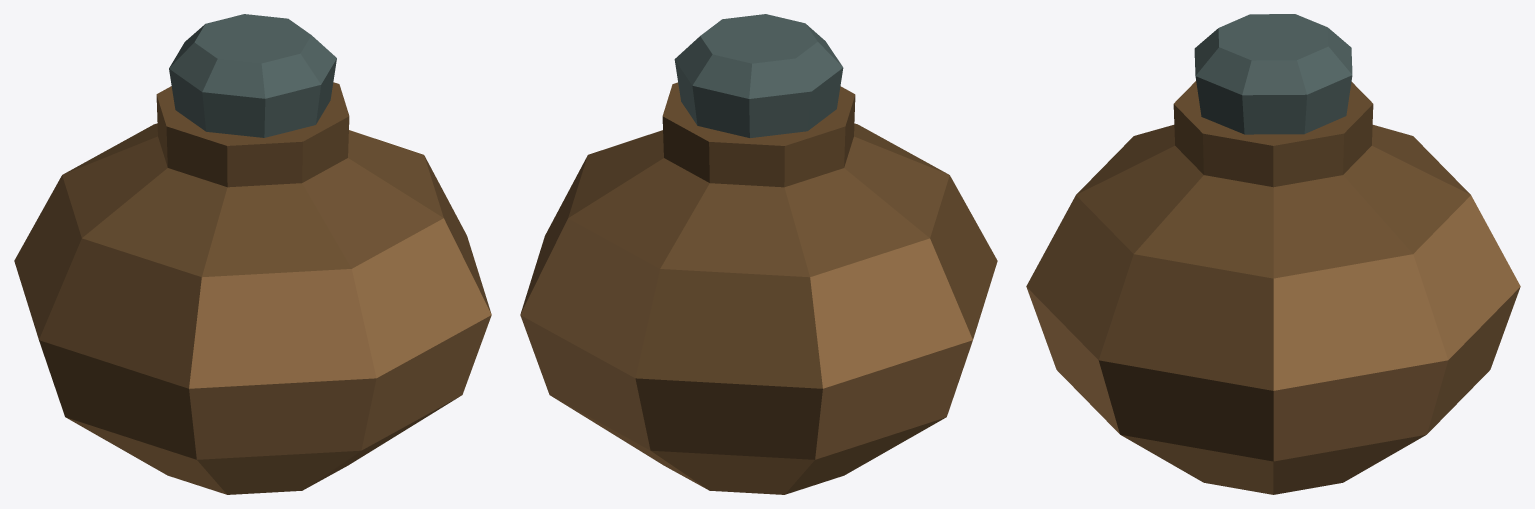
File: Bottle_4_Brown.fbx
3 views of the same model, side by side, from view 1: azimuth 30°, elevation 25°; view 2: azimuth 150°, elevation 25°; view 3: azimuth 270°, elevation 25° (orthographic).
Visible parts, largest first — view 1: Bottle_4_Brown_Part_1, Bottle_4_Brown_Part_2, Bottle_4_Brown_Part_3; view 2: Bottle_4_Brown_Part_1, Bottle_4_Brown_Part_2, Bottle_4_Brown_Part_3; view 3: Bottle_4_Brown_Part_1, Bottle_4_Brown_Part_2, Bottle_4_Brown_Part_3.
Boxes of the visible parts, bbox=[...] form: Bottle_4_Brown_Part_1: bbox=[39, 82, 491, 494]; Bottle_4_Brown_Part_2: bbox=[14, 175, 491, 459]; Bottle_4_Brown_Part_3: bbox=[169, 14, 336, 137]; Bottle_4_Brown_Part_1: bbox=[553, 82, 997, 494]; Bottle_4_Brown_Part_2: bbox=[520, 156, 972, 459]; Bottle_4_Brown_Part_3: bbox=[674, 14, 843, 137]; Bottle_4_Brown_Part_1: bbox=[1076, 81, 1470, 494]; Bottle_4_Brown_Part_2: bbox=[1026, 195, 1520, 461]; Bottle_4_Brown_Part_3: bbox=[1194, 14, 1352, 134].
Bounding box in the file's own units: 31.78 × 29.5 × 31.78.
